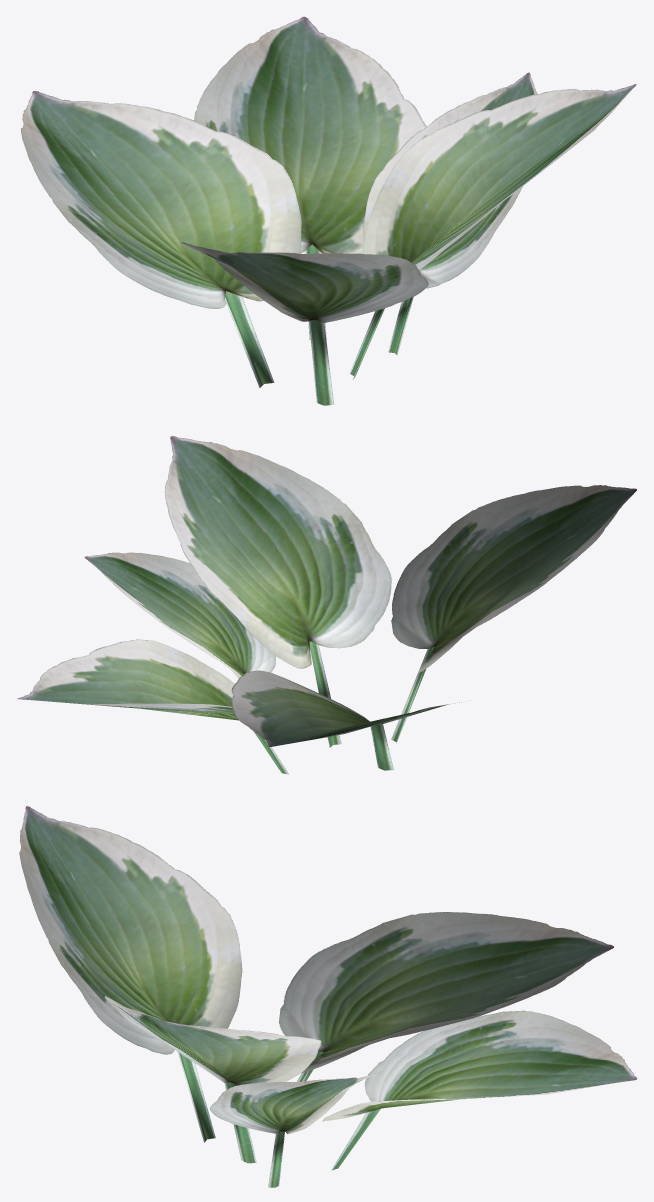
The model's file is plant_small_wg_04R.fbx.
3 views of the same model, one above another, from view 1: azimuth 30°, elevation 25°; view 2: azimuth 150°, elevation 25°; view 3: azimuth 270°, elevation 25° (orthographic). The views are drawn at different scales.
Visible parts, largest first — view 1: plant_small_wg_04R; view 2: plant_small_wg_04R; view 3: plant_small_wg_04R.
Boxes of the visible parts, x1,y1,x2,y2 form: plant_small_wg_04R: [20, 16, 636, 405]; plant_small_wg_04R: [17, 436, 636, 774]; plant_small_wg_04R: [19, 806, 637, 1187].
Bounding box in the file's own units: 104 × 56.49 × 127.
